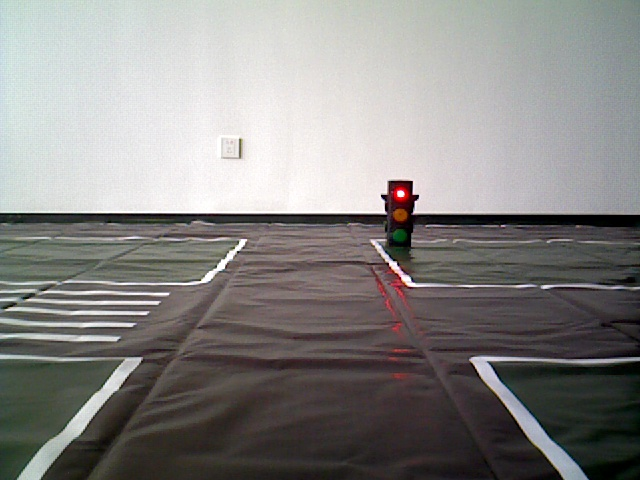red: (386, 181, 409, 248)
